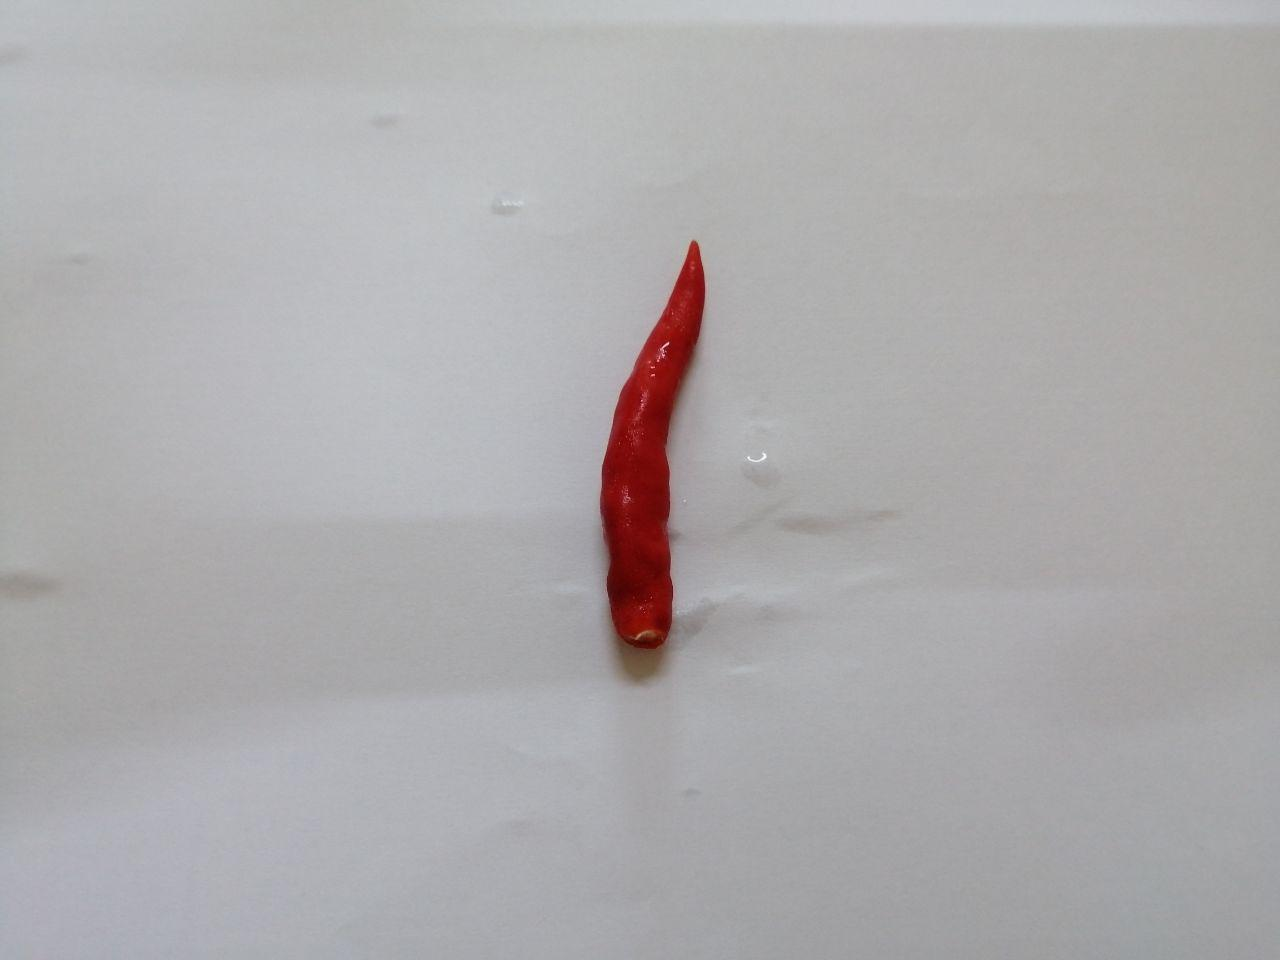lada merah: (575, 215, 758, 661)
